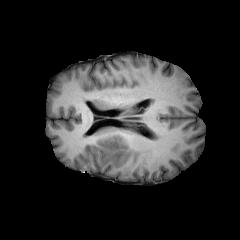glioma: (82, 132, 133, 169)
